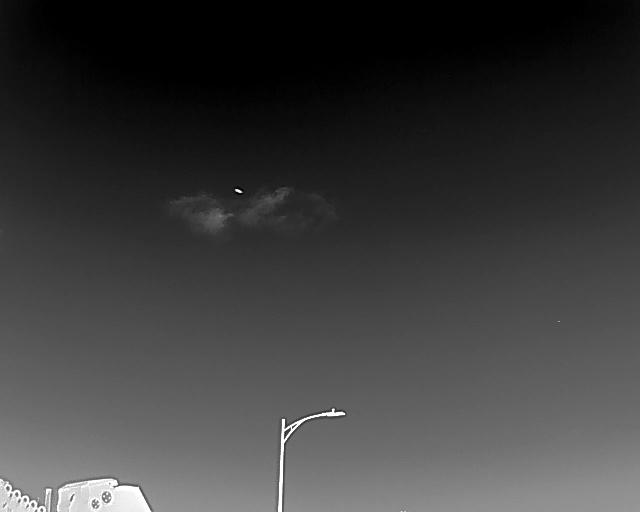fpv-drone: (233, 187, 243, 194)
